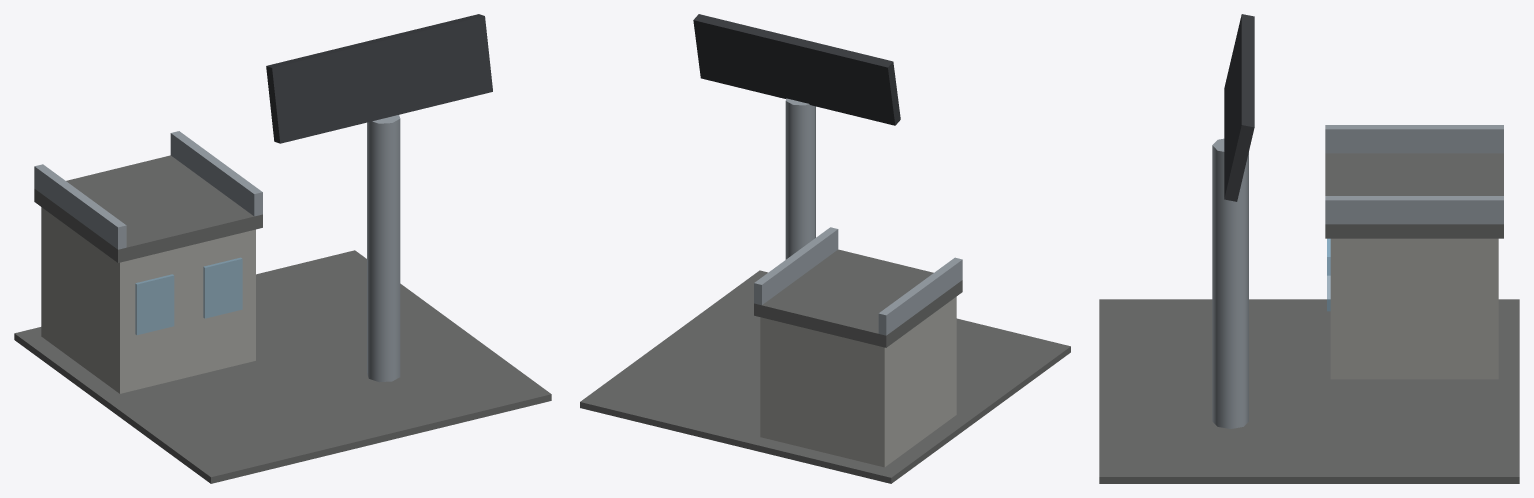
File: bld_special_radar_a06_lod1.glb
3 views of the same model, side by side, from view 1: azimuth 30°, elevation 25°; view 2: azimuth 150°, elevation 25°; view 3: azimuth 270°, elevation 25° (orthographic). The views are drawn at different scales.
Visible parts, largest first — view 1: body, antenna; view 2: body, antenna; view 3: body, antenna.
Boxes of the visible parts, bbox=[...] form: body: bbox=[14, 115, 551, 483]; antenna: bbox=[266, 14, 492, 143]; body: bbox=[580, 98, 1070, 483]; antenna: bbox=[693, 14, 900, 125]; body: bbox=[1099, 125, 1519, 483]; antenna: bbox=[1224, 14, 1254, 201].
Size of the model in its own units: 8 by 7.54 by 8.
